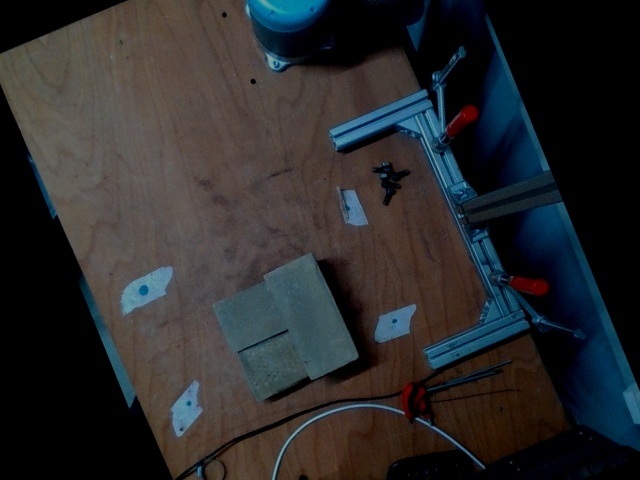brick: (262, 253, 357, 379)
